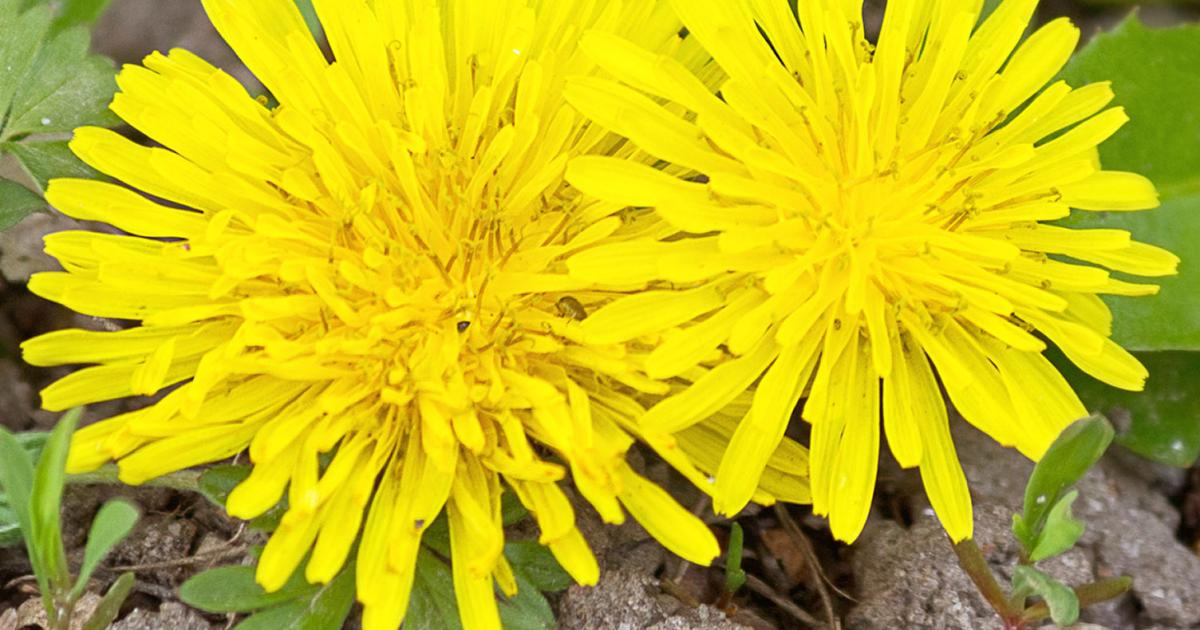dandelion: (97, 31, 625, 570), (659, 30, 1136, 501)
